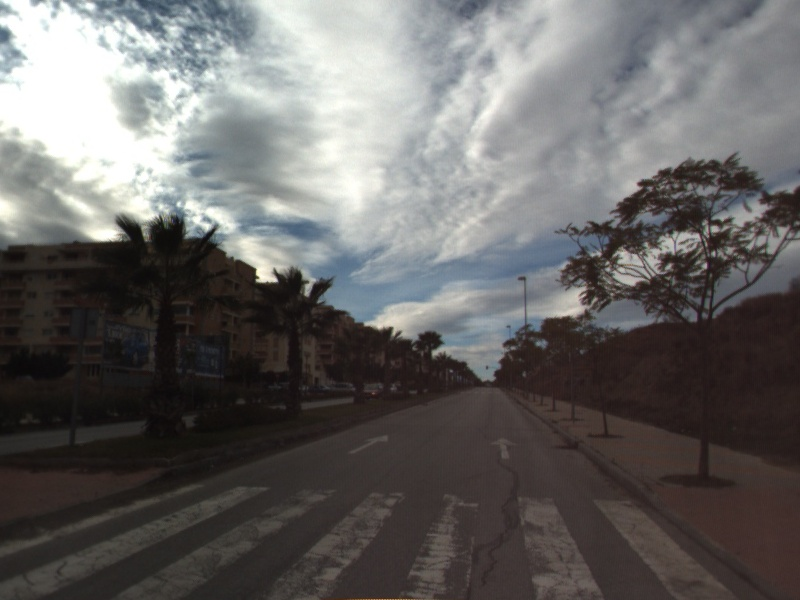STRAIGHT: (345, 432, 390, 456), (488, 435, 521, 461)
